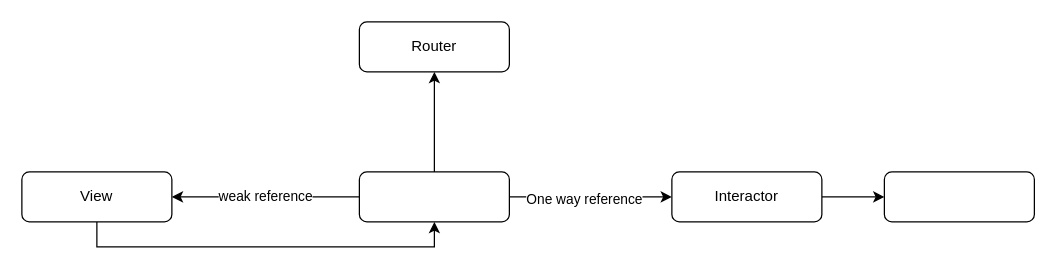
The diagram is 1056 pixels wide and 279 high, and some of its shapes have lost their labels. The centre of each missing label's shape, as x and y in pixels:
"Entity" belongs at point (958, 196).
"Presenter" belongs at point (433, 196).
